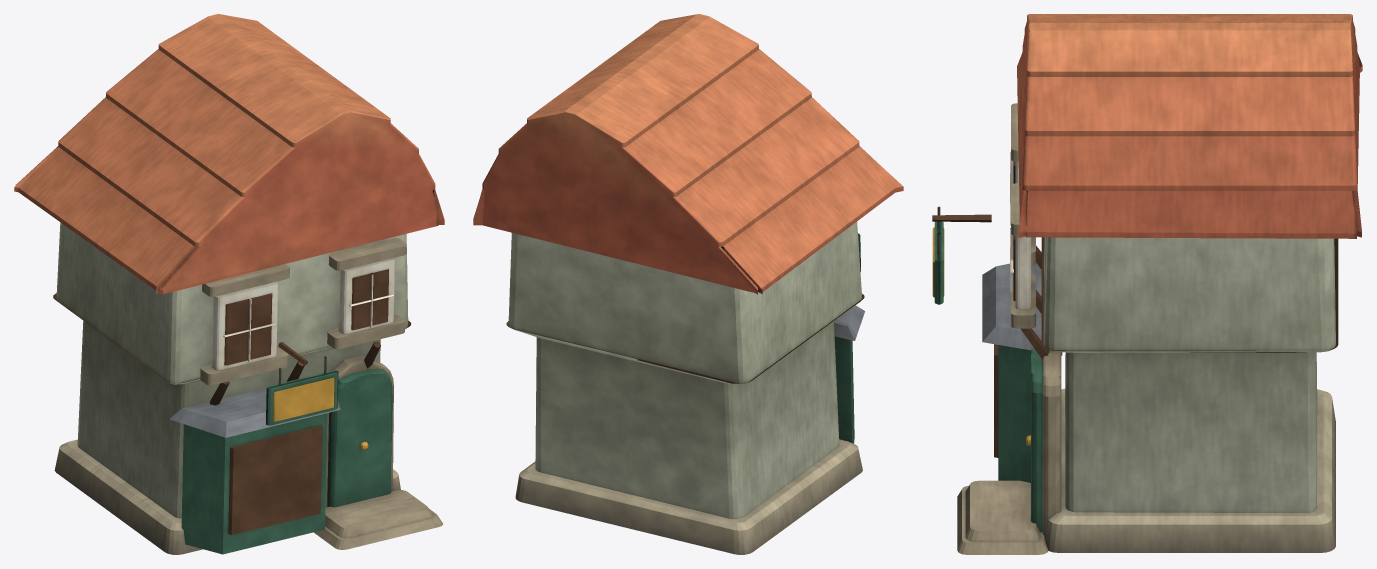
The model's file is bookshop.glb.
3 views of the same model, side by side, from view 1: azimuth 30°, elevation 25°; view 2: azimuth 150°, elevation 25°; view 3: azimuth 270°, elevation 25° (orthographic). The views are drawn at different scales.
Visible parts, largest first — view 1: Bookshop; view 2: Bookshop; view 3: Bookshop.
Boxes of the visible parts, x1=… form: Bookshop: x1=14, y1=14, x2=444, y2=554; Bookshop: x1=473, y1=14, x2=903, y2=554; Bookshop: x1=932, y1=14, x2=1362, y2=554.
Bounding box in the file's own units: 3.52 × 4.72 × 3.77.
Materials: 1 (1 with a texture image).
